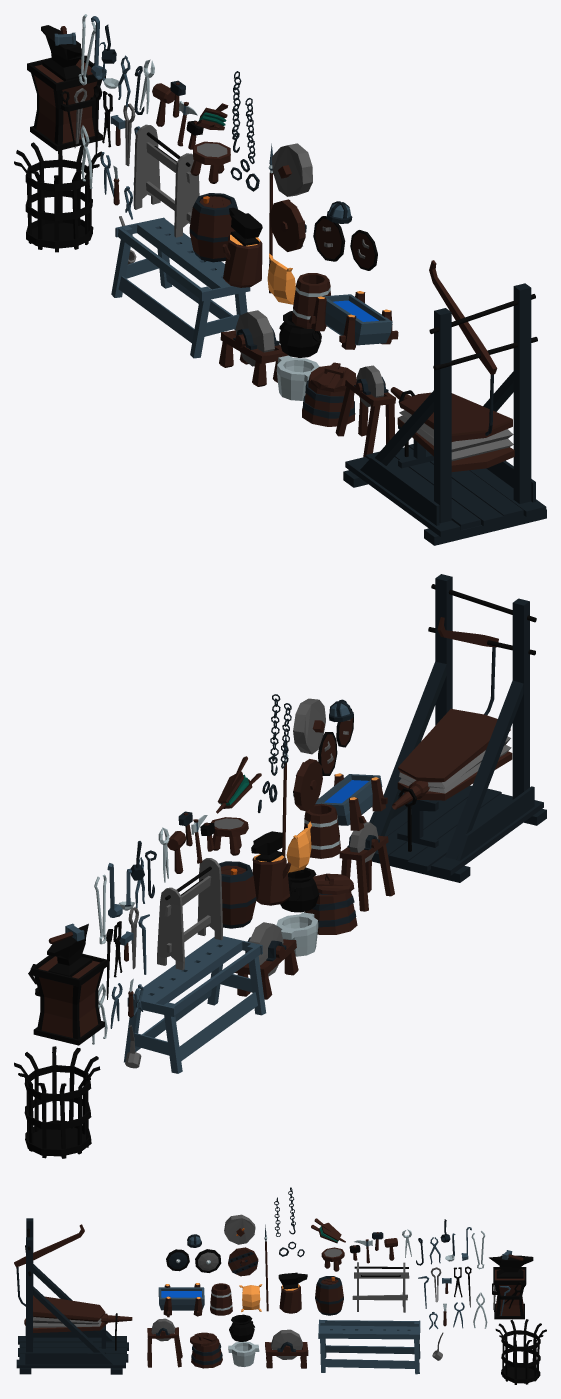
The model's file is forge-parts.obj.
3 renders of one model, top to bottom at view 1: azimuth 30°, elevation 25°; view 2: azimuth 150°, elevation 25°; view 3: azimuth 270°, elevation 25°, orthographic. The views are drawn at different scales.
Parts seen in each view (by area): view 1: group10399283, group1207236798, group1604865080, group26790145, group464901326, group809751700, group803807837, group55688005, group1553685921, group1977222390, group1381488316, group180351727 (+8 smaller); view 2: group10399283, group1207236798, group1604865080, group26790145, group464901326, group809751700, group55688005, group1553685921, group1381488316, group1977222390, group803807837, group883557102 (+7 smaller); view 3: group10399283, group1207236798, group1604865080, group26790145, group809751700, group803807837, group464901326, group1381488316, group1977222390, group1553685921, group55688005, group180351727 (+9 smaller).
Part boxes in pixels (x1,y1,x2,y2): group10399283: [343, 260, 546, 545]; group1207236798: [111, 217, 250, 358]; group1604865080: [27, 25, 105, 150]; group26790145: [14, 142, 101, 252]; group464901326: [133, 124, 199, 237]; group809751700: [308, 291, 398, 349]; group803807837: [219, 310, 288, 386]; group55688005: [335, 365, 395, 457]; group1553685921: [222, 207, 262, 287]; group1977222390: [189, 193, 237, 262]; group1381488316: [302, 362, 356, 426]; group180351727: [271, 143, 312, 196]; group10399283: [369, 574, 546, 882]; group1207236798: [124, 936, 266, 1073]; group1604865080: [28, 923, 107, 1045]; group26790145: [14, 1046, 100, 1158]; group464901326: [157, 858, 222, 970]; group809751700: [315, 773, 387, 830]; group55688005: [339, 822, 394, 911]; group1553685921: [251, 831, 290, 905]; group1381488316: [304, 873, 357, 934]; group1977222390: [219, 861, 256, 928]; group803807837: [235, 922, 298, 999]; group883557102: [304, 803, 340, 858]; group10399283: [14, 1218, 132, 1374]; group1207236798: [318, 1319, 420, 1374]; group1604865080: [489, 1250, 533, 1319]; group26790145: [495, 1319, 546, 1384]; group809751700: [158, 1283, 204, 1317]; group803807837: [265, 1329, 308, 1368]; group464901326: [352, 1262, 409, 1312]; group1381488316: [190, 1332, 222, 1368]; group1977222390: [315, 1276, 343, 1315]; group1553685921: [278, 1272, 307, 1313]; group55688005: [147, 1318, 182, 1367]; group180351727: [224, 1214, 255, 1244].
Size of the model in its own units: 0.7429 by 1.99 by 5.22.
